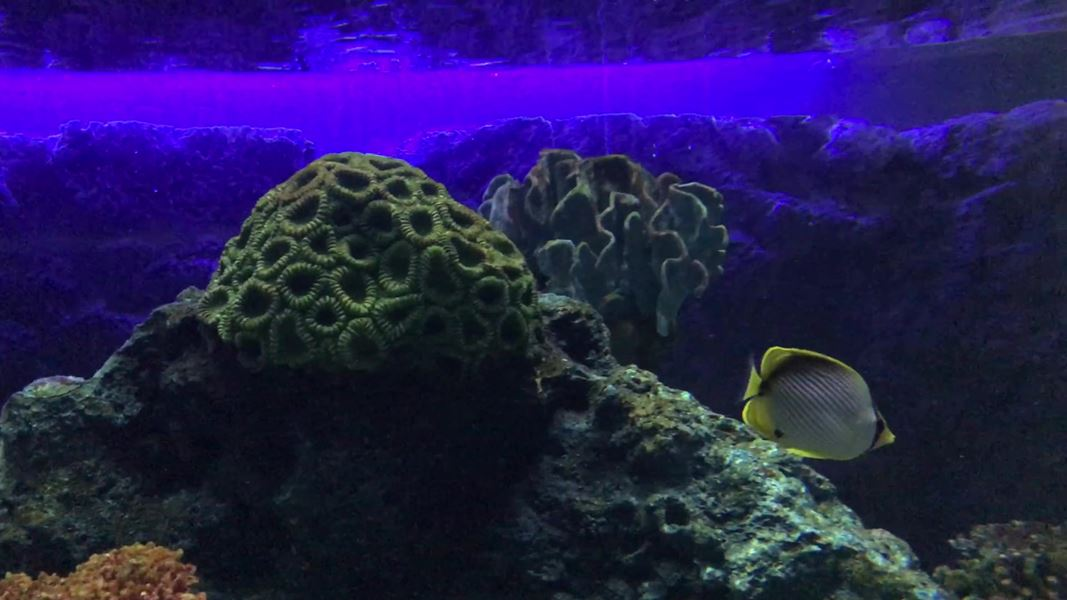Black-backed butterflyfish: (723, 336, 904, 470)
